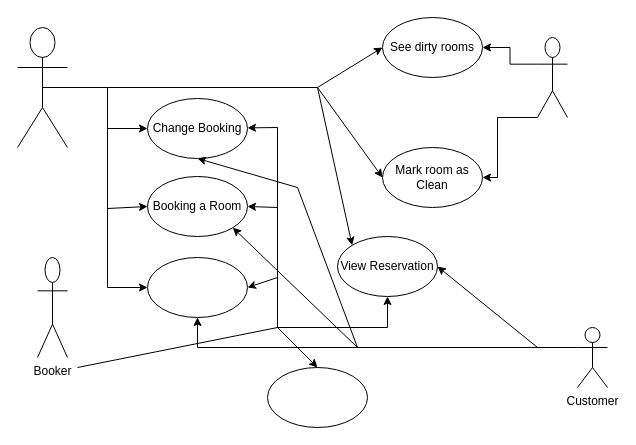
Some shapes in this 636 by 445 pixel diagram are drawn without their labels. The shapes that lost their labels are listed below. From the top down, each one's box as (x1, y1, x2, y2) in pixels, then its label:
(16, 26, 68, 148): Admin
(536, 36, 568, 118): Cleaner
(146, 256, 248, 318): Cancel Booking
(266, 366, 368, 428): Put in Cleaning Request
